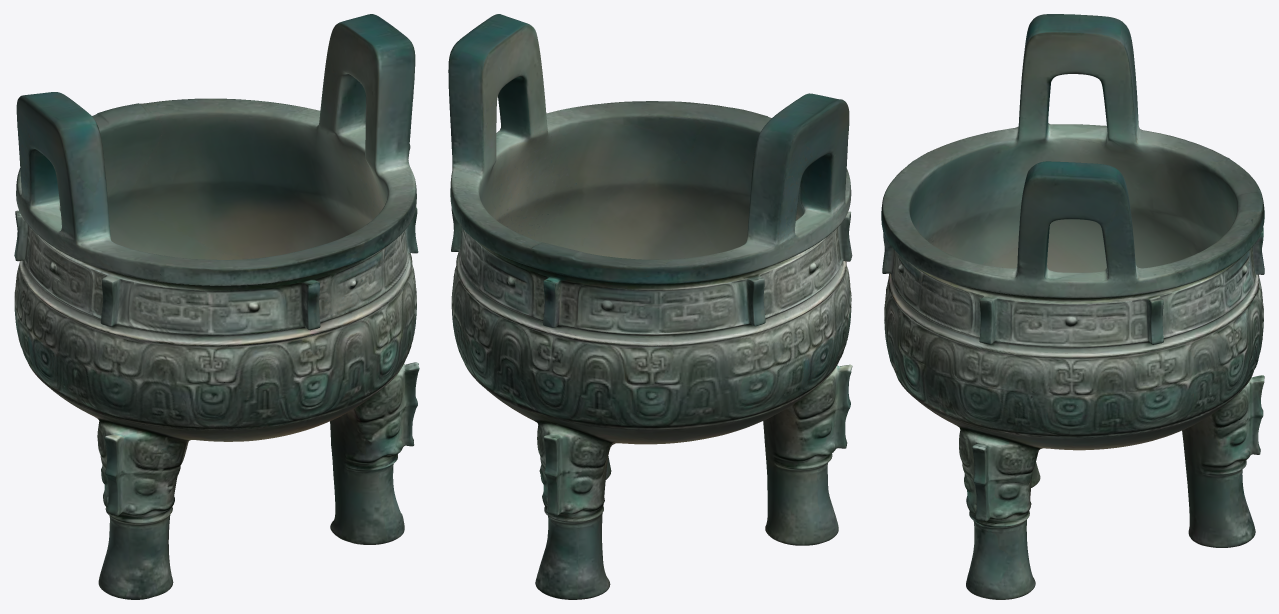
The picture shows the model from 3 angles, left to right: view 1: azimuth 30°, elevation 25°; view 2: azimuth 150°, elevation 25°; view 3: azimuth 270°, elevation 25°; orthographic projection. The views are drawn at different scales.
Parts seen in each view (by area): view 1: node_0; view 2: node_0; view 3: node_0.
Part boxes in pixels (x1=…): node_0: x1=14, y1=14, x2=419, y2=599; node_0: x1=448, y1=14, x2=852, y2=599; node_0: x1=881, y1=14, x2=1264, y2=599.
Bounding box in the file's own units: 0.7547 × 0.9391 × 0.7416.
Materials: 1 (1 with a texture image).
